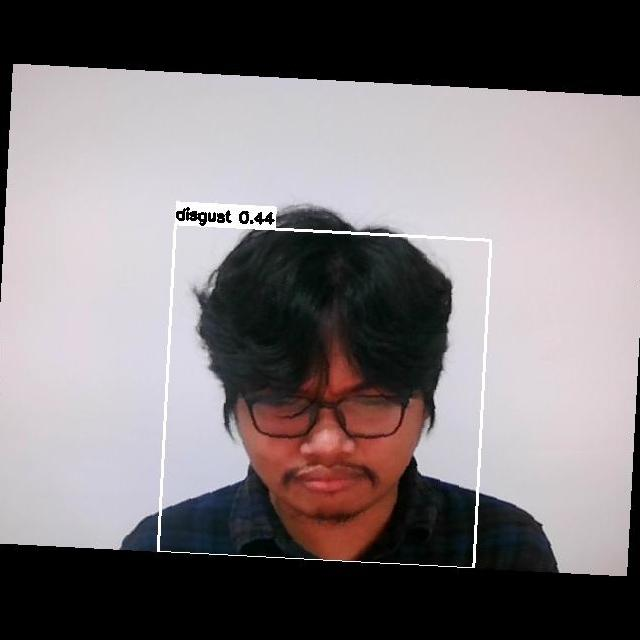Disgust: (225, 349, 438, 515)
